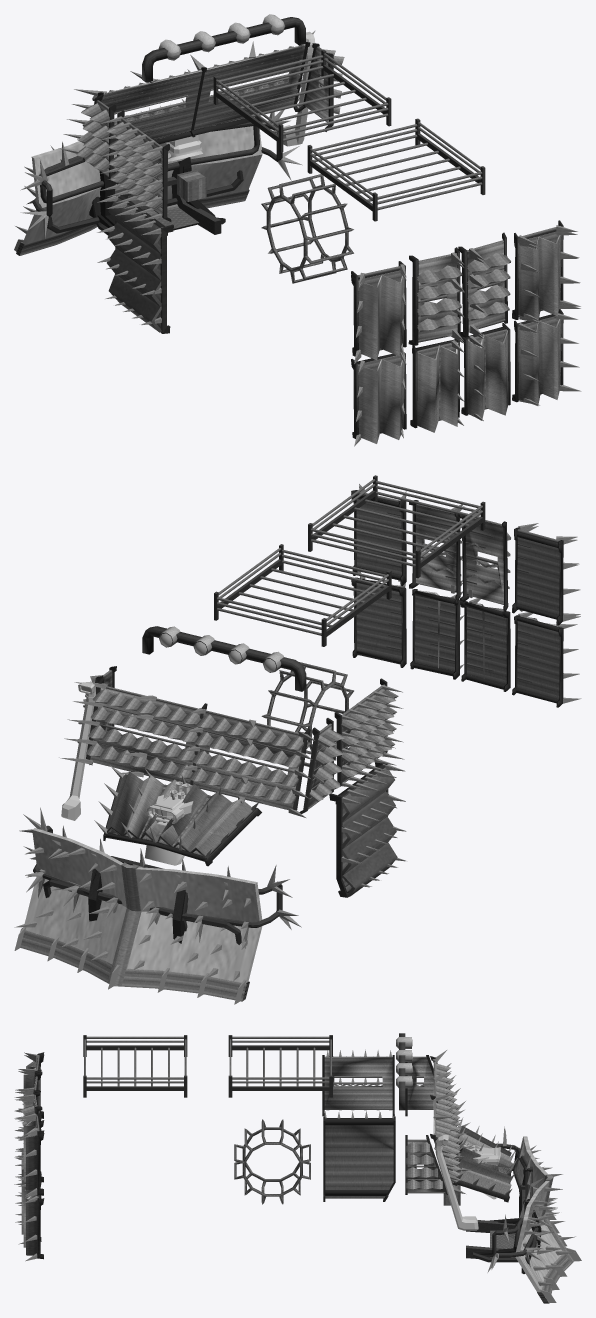
File: StepVanArmor.fbx
3 views of the same model, one above another, from view 1: azimuth 30°, elevation 25°; view 2: azimuth 150°, elevation 25°; view 3: azimuth 270°, elevation 25° (orthographic). The views are drawn at different scales.
Parts seen in each view (by area): view 1: trunkreinforcedrear, roofrack, windowreinforcedrear, plow, windowheavyfront, windowheavyspikedfront, windowheavyrear, doorfrontreinforcedleft, trunkheavyrear, chaintires, rooflights, windowfrontreinforcedleft (+16 smaller); view 2: plow, trunkheavyrear, windowreinforcedfront, roofrack, plow_spiked, windowheavyrear, hoodreinforcedfront, windowheavyfront, doorfrontreinforcedleft, pushbar_large_spiked, windowfrontreinforcedleft, rooflights (+17 smaller); view 3: roofrack, doorfrontheavyleft, plow, windowfrontheavyspikedleft, windowreinforcedfront, windowheavyfront, hoodreinforcedfront, chaintires, plow_spiked, windowreinforcedrear, pushbar_large_spiked, snorkel (+15 smaller).
Part boxes in pixels (x1=…): trunkreinforcedrear: x1=357, y1=312, x2=561, y2=443; roofrack: x1=213, y1=49, x2=485, y2=221; windowreinforcedrear: x1=351, y1=230, x2=563, y2=360; plow: x1=14, y1=115, x2=262, y2=255; windowheavyfront: x1=82, y1=42, x2=333, y2=178; windowheavyspikedfront: x1=60, y1=32, x2=333, y2=173; windowheavyrear: x1=351, y1=231, x2=563, y2=350; doorfrontreinforcedleft: x1=107, y1=195, x2=167, y2=332; trunkheavyrear: x1=351, y1=309, x2=563, y2=438; chaintires: x1=261, y1=174, x2=353, y2=283; rooflights: x1=142, y1=14, x2=305, y2=82; windowfrontreinforcedleft: x1=106, y1=122, x2=163, y2=210; plow: x1=14, y1=828, x2=262, y2=1004; trunkheavyrear: x1=351, y1=577, x2=563, y2=707; windowreinforcedfront: x1=77, y1=675, x2=344, y2=804; roofrack: x1=214, y1=475, x2=485, y2=646; plow_spiked: x1=14, y1=830, x2=259, y2=982; windowheavyrear: x1=351, y1=494, x2=563, y2=622; hoodreinforcedfront: x1=103, y1=771, x2=252, y2=861; windowheavyfront: x1=86, y1=666, x2=333, y2=813; doorfrontreinforcedleft: x1=335, y1=764, x2=397, y2=896; pushbar_large_spiked: x1=19, y1=807, x2=301, y2=948; windowfrontreinforcedleft: x1=341, y1=690, x2=398, y2=778; rooflights: x1=142, y1=626, x2=306, y2=691; roofrack: x1=83, y1=1035, x2=332, y2=1097; doorfrontheavyleft: x1=323, y1=1116, x2=395, y2=1201; plow: x1=471, y1=1136, x2=581, y2=1303; windowfrontheavyspikedleft: x1=322, y1=1049, x2=394, y2=1116; windowreinforcedfront: x1=406, y1=1063, x2=460, y2=1189; windowheavyfront: x1=405, y1=1055, x2=453, y2=1193; hoodreinforcedfront: x1=456, y1=1125, x2=512, y2=1197; chaintires: x1=234, y1=1119, x2=310, y2=1204; plow_spiked: x1=513, y1=1150, x2=575, y2=1285; windowreinforcedrear: x1=20, y1=1057, x2=43, y2=1191; pushbar_large_spiked: x1=487, y1=1126, x2=555, y2=1272; snorkel: x1=434, y1=1135, x2=478, y2=1230.
Size of the model in its own units: 297 by 271 by 677.
